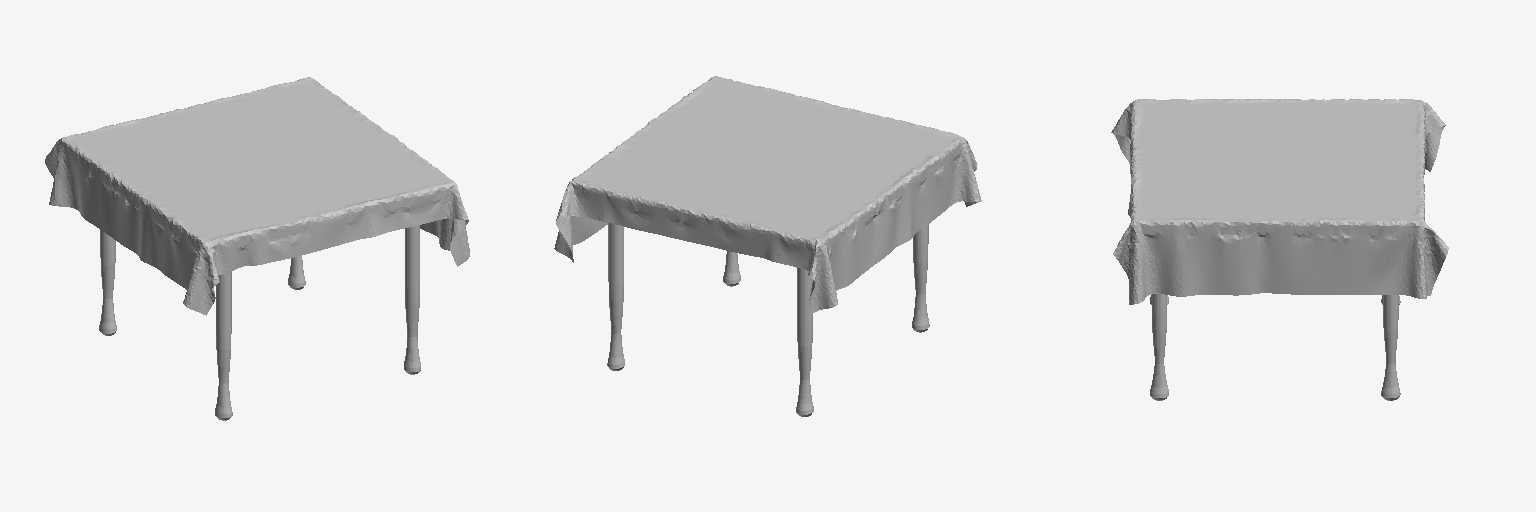
File: tableCloth.obj
3 views of the same model, side by side, from view 1: azimuth 30°, elevation 25°; view 2: azimuth 150°, elevation 25°; view 3: azimuth 270°, elevation 25° (orthographic).
Visible parts, largest first — view 1: Mesh; view 2: Mesh; view 3: Mesh.
Part boxes in pixels (left/top/right/bottom): Mesh: left=45, top=77, right=469, bottom=420; Mesh: left=554, top=76, right=981, bottom=416; Mesh: left=1111, top=99, right=1448, bottom=400.
Bounding box in the file's own units: 7.23 × 4.72 × 7.42.